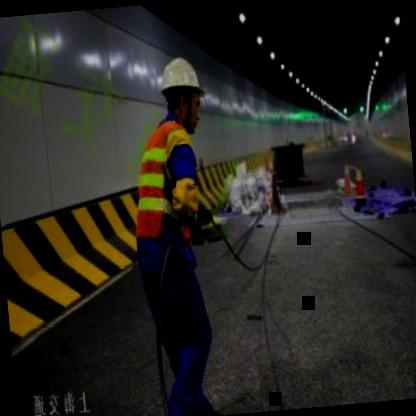helmet: (154, 50, 211, 138)
